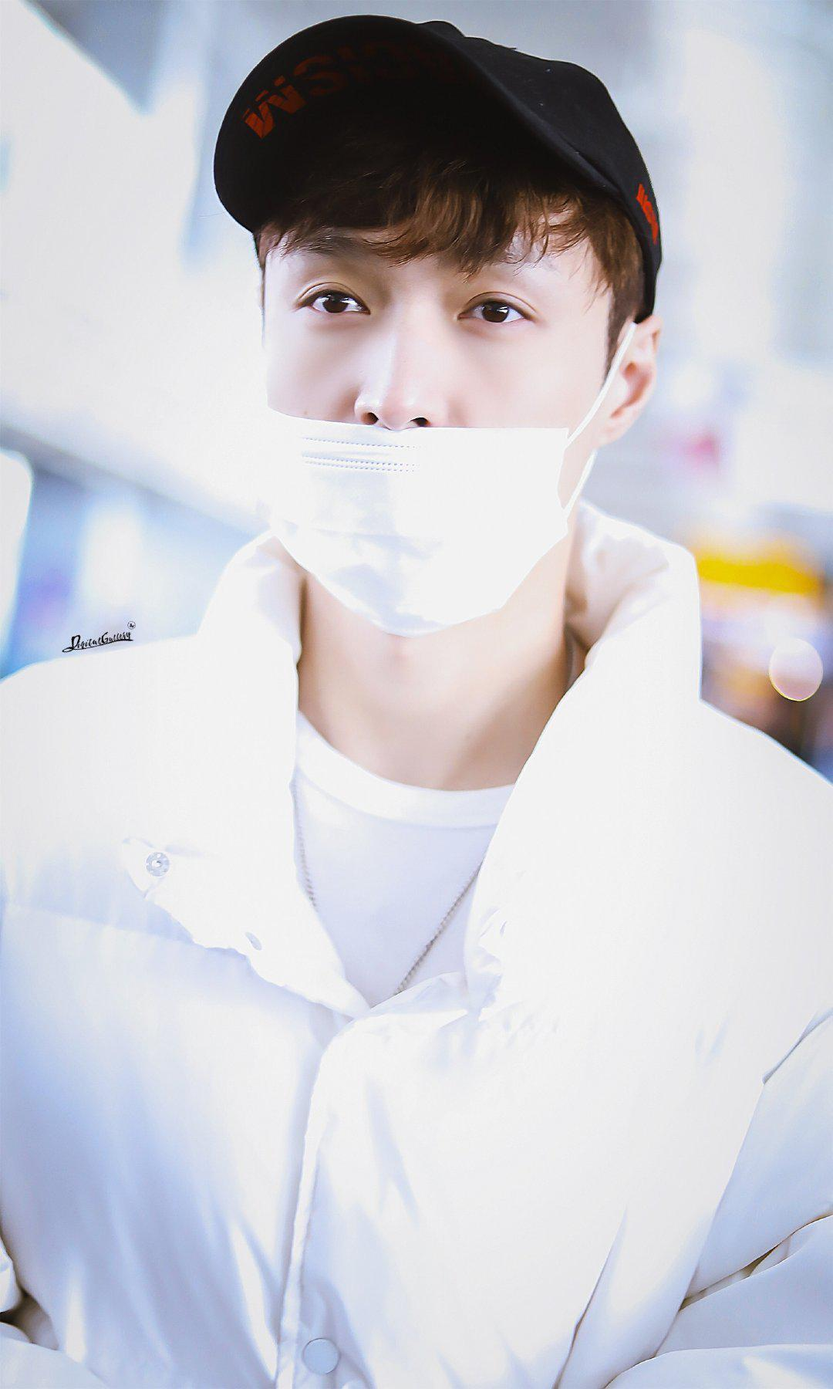WRONG: (254, 181, 580, 624)
